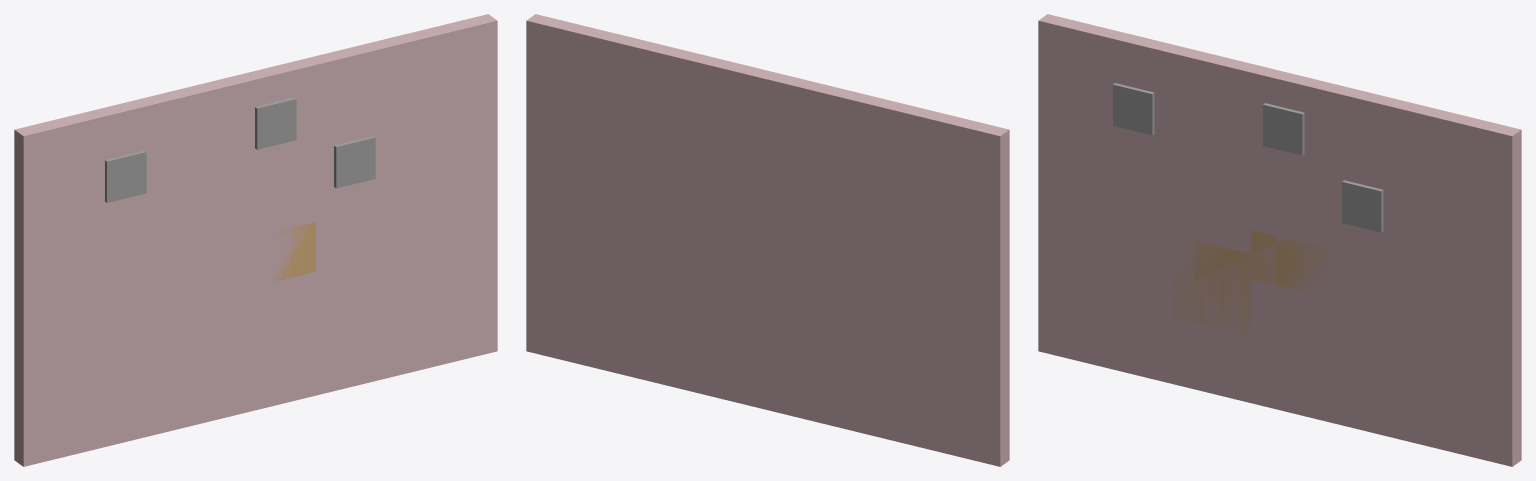
Rendered from board.glb.
3 views of the same model, side by side, from view 1: azimuth 30°, elevation 25°; view 2: azimuth 150°, elevation 25°; view 3: azimuth 330°, elevation 25° (orthographic).
Parts seen in each view (by area): view 1: Substrate_Layer_0, Component_IC2, Component_IC3, Component_IC1, Substrate_Layer_2; view 2: Substrate_Layer_0; view 3: Substrate_Layer_0, Substrate_Layer_1, Substrate_Layer_2, Component_IC2, Component_IC3, Component_IC1.
Part boxes in pixels (x1,y1,x2,y2): Substrate_Layer_0: [14, 14, 497, 466]; Component_IC2: [255, 97, 296, 149]; Component_IC3: [334, 136, 375, 188]; Component_IC1: [105, 150, 146, 202]; Substrate_Layer_2: [271, 222, 315, 282]; Substrate_Layer_0: [526, 14, 1009, 466]; Substrate_Layer_0: [1038, 14, 1521, 466]; Substrate_Layer_1: [1172, 240, 1251, 336]; Substrate_Layer_2: [1251, 230, 1330, 293]; Component_IC2: [1263, 103, 1304, 155]; Component_IC3: [1342, 180, 1383, 232]; Component_IC1: [1113, 83, 1154, 135].
Size of the model in its own units: 0.06 by 0.04 by 0.003.
